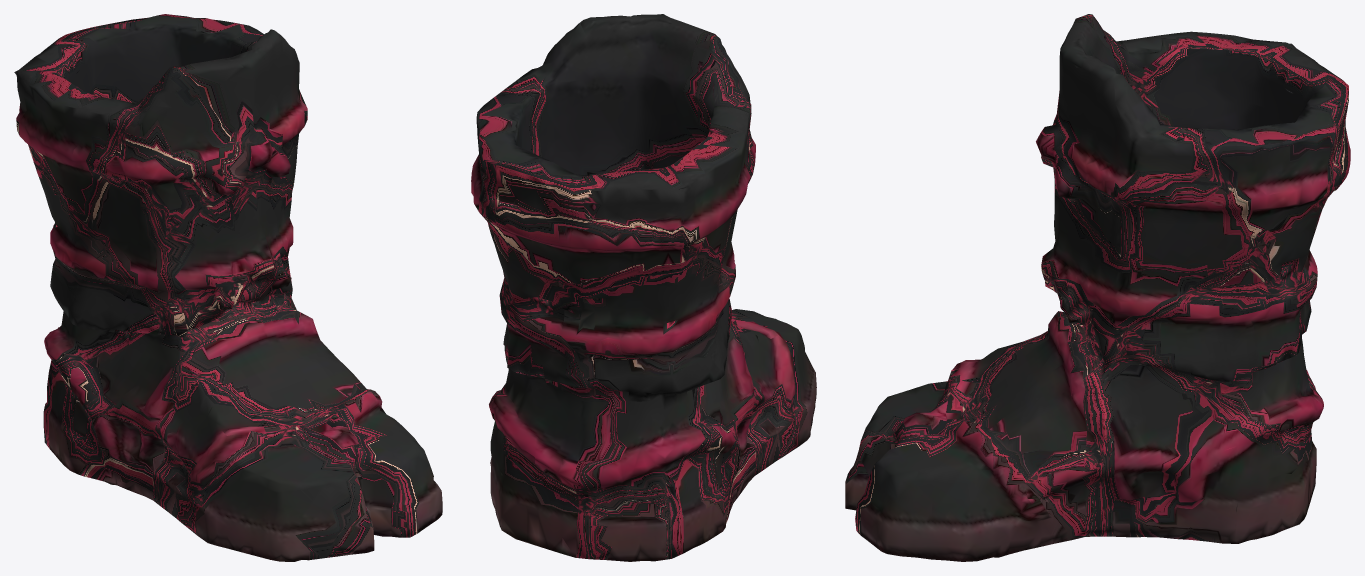
Rendered from samurai_boot_B.glb.
The picture shows the model from 3 angles, left to right: view 1: azimuth 30°, elevation 25°; view 2: azimuth 150°, elevation 25°; view 3: azimuth 270°, elevation 25°; orthographic projection. The views are drawn at different scales.
Size of the model in its own units: 0.1918 by 0.3062 by 0.3052.
Materials: 1 (1 with a texture image).
